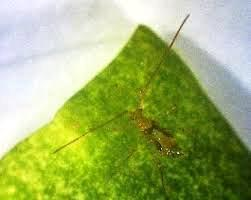Helopeltis-insect: (124, 101, 191, 167)
